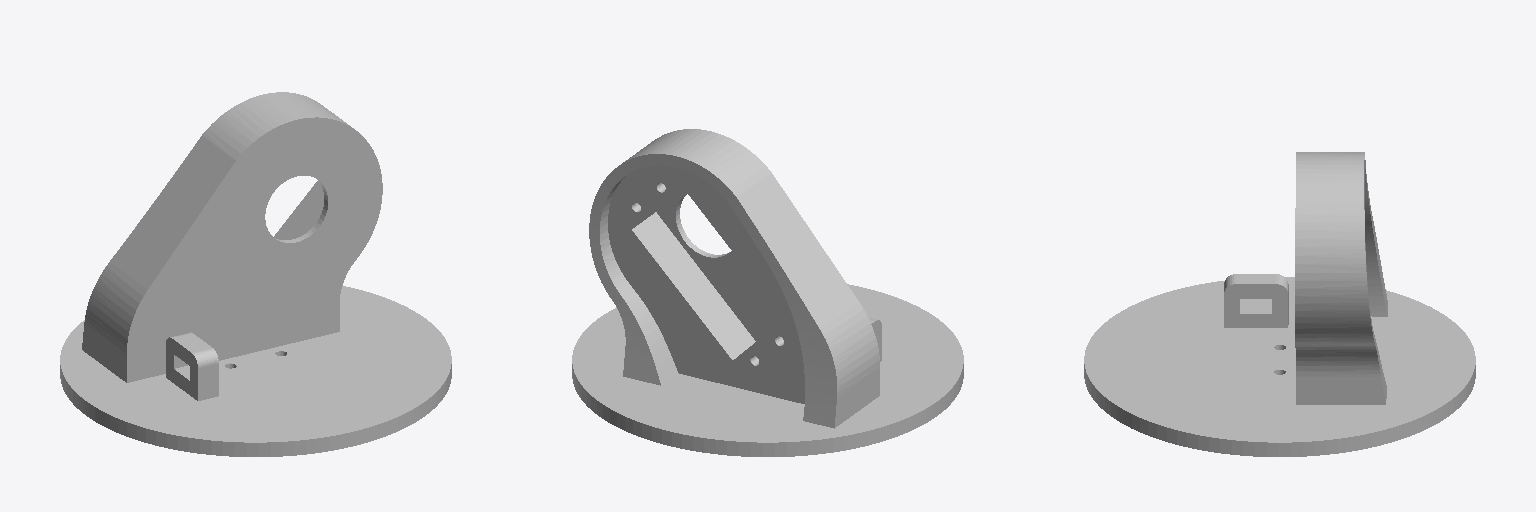
3 views of the same model, side by side, from view 1: azimuth 30°, elevation 25°; view 2: azimuth 150°, elevation 25°; view 3: azimuth 270°, elevation 25° (orthographic).
Parts seen in each view (by area): view 1: fabconvert.com_waist.001; view 2: fabconvert.com_waist.001; view 3: fabconvert.com_waist.001.
Part boxes in pixels (left/top/right/bottom): fabconvert.com_waist.001: left=60, top=92, right=451, bottom=456; fabconvert.com_waist.001: left=572, top=129, right=963, bottom=456; fabconvert.com_waist.001: left=1084, top=152, right=1475, bottom=456.
Bounding box in the file's own units: 1.22 × 0.816 × 1.22.